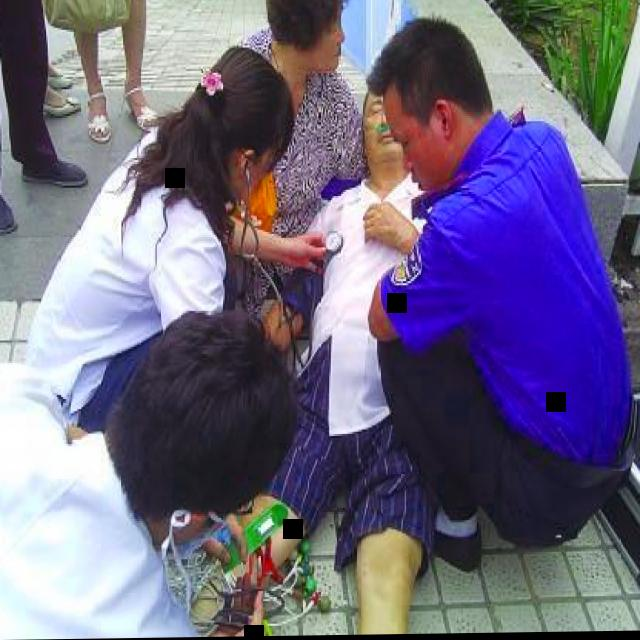Fall-Detected: (231, 44, 443, 631)
